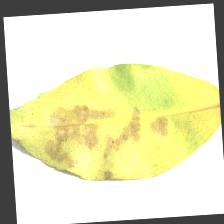black spot: (39, 103, 180, 161)
